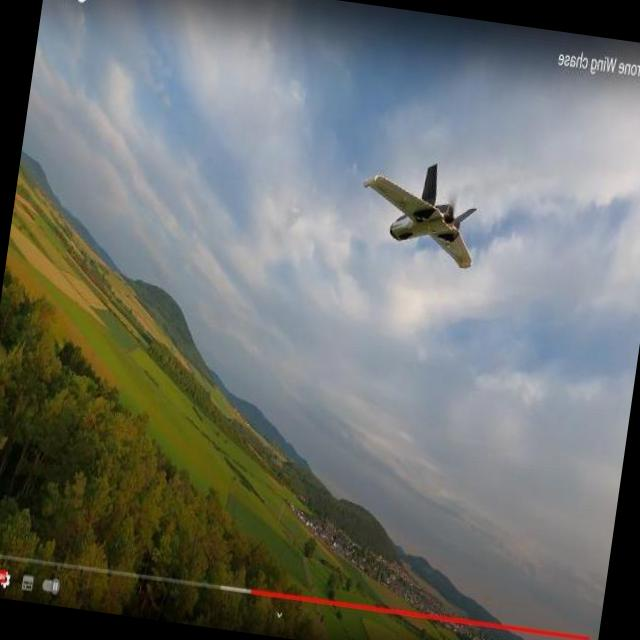UAV: (357, 160, 485, 264)
